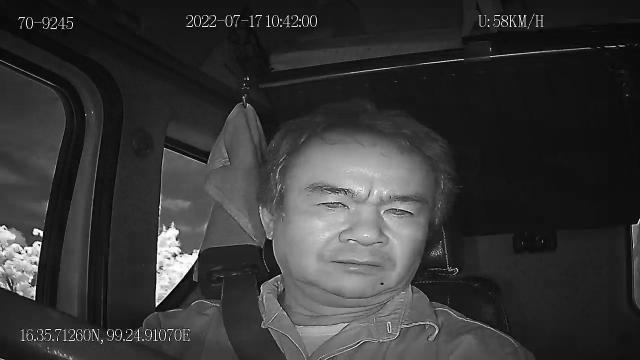SafeDriving: (306, 187, 358, 216), (376, 195, 424, 224)
Seatbelt: (220, 274, 288, 360)
